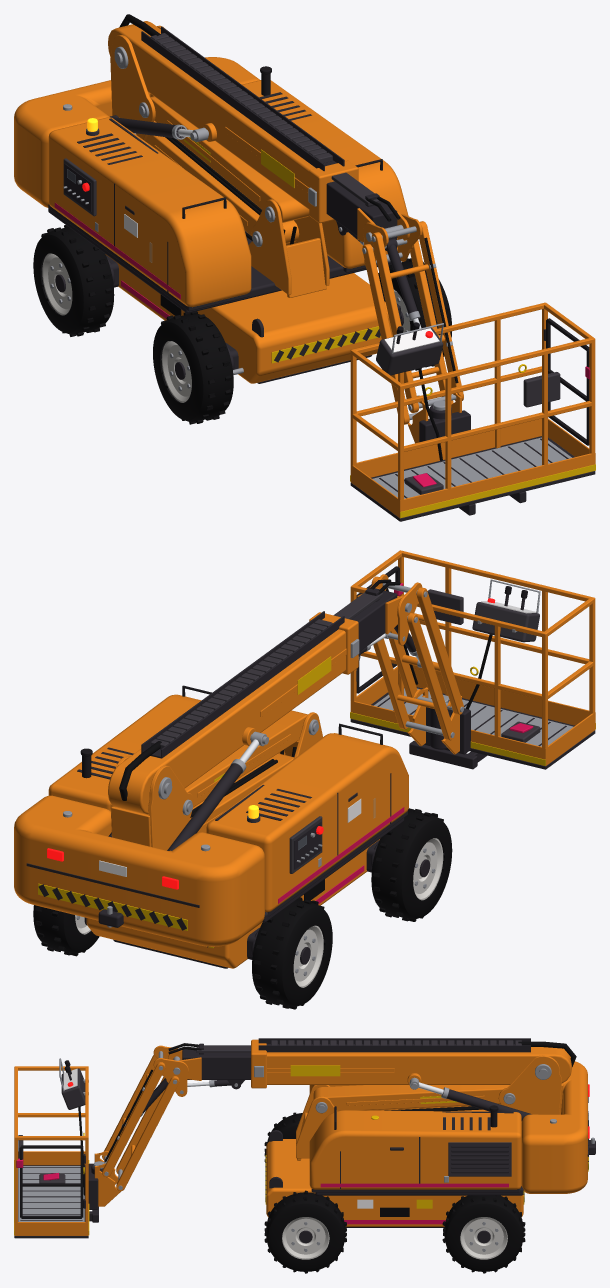
File: boom.glb
3 renders of one model, top to bottom at view 1: azimuth 30°, elevation 25°; view 2: azimuth 150°, elevation 25°; view 3: azimuth 270°, elevation 25°, orthographic. The views are drawn at different scales.
Visible parts, largest first — view 1: chassis, bk_plate, boom_base, wheel, wheel.002, riser_upper_arm, jib_upper_arm, inner_sec, upright_plate, riser_lower_arm, jib_lower_arm, wheel_tr (+5 smaller); view 2: chassis, bk_plate, boom_base, wheel, wheel.002, upright_plate, jib_lower_arm, jib_upper_arm, riser_upper_arm, inner_sec, wheel_tr, wheel_tr.088 (+4 smaller); view 3: chassis, boom_base, bk_plate, riser_upper_arm, wheel.001, wheel.003, upright_plate, inner_sec, wheel_tr.044, wheel_tr.132, jib_upper_arm, jib_lower_arm (+4 smaller).
Part boxes in pixels (box(x1,y1,x2,y2)): chassis: box(14, 57, 408, 383); bk_plate: box(350, 302, 595, 521); boom_base: box(108, 14, 358, 223); wheel: box(153, 314, 233, 421); wheel.002: box(33, 227, 114, 334); riser_upper_arm: box(150, 96, 309, 222); jib_upper_arm: box(372, 221, 463, 412); inner_sec: box(326, 172, 409, 242); upright_plate: box(110, 25, 163, 140); riser_lower_arm: box(145, 121, 299, 243); jib_lower_arm: box(362, 240, 453, 424); wheel_tr: box(157, 311, 231, 424); chassis: box(14, 685, 408, 968); bk_plate: box(350, 550, 595, 769); boom_base: box(108, 611, 359, 814); wheel: box(371, 811, 452, 919); wheel.002: box(252, 899, 332, 1006); upright_plate: box(110, 756, 193, 850); jib_lower_arm: box(373, 613, 454, 740); jib_upper_arm: box(371, 576, 463, 714); riser_upper_arm: box(184, 710, 307, 807); inner_sec: box(333, 579, 404, 661); wheel_tr: box(373, 808, 444, 921); wheel_tr.088: box(253, 897, 325, 1009); chassis: box(265, 1061, 595, 1227); boom_base: box(251, 1038, 576, 1089); bk_plate: box(14, 1058, 122, 1238); riser_upper_arm: box(313, 1085, 509, 1110); wheel.001: box(266, 1192, 345, 1271); wheel.003: box(444, 1195, 523, 1271); upright_plate: box(498, 1055, 563, 1122); inner_sec: box(168, 1043, 250, 1089); wheel_tr.044: box(264, 1190, 346, 1273); wheel_tr.132: box(442, 1195, 525, 1273); jib_upper_arm: box(102, 1054, 165, 1177); jib_lower_arm: box(116, 1076, 179, 1191).
Size of the model in its own units: 2.2 by 2.1 by 5.88.
